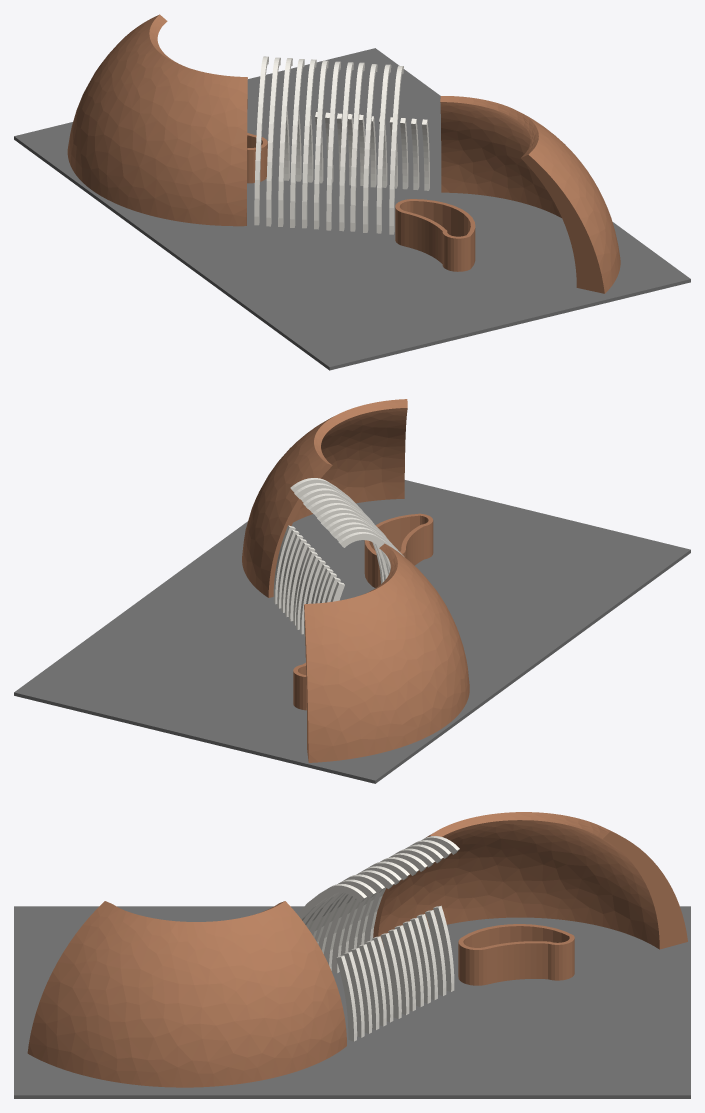
File: PabellonFosil-v1.glb
The picture shows the model from 3 angles, top to bottom: view 1: azimuth 30°, elevation 25°; view 2: azimuth 150°, elevation 25°; view 3: azimuth 270°, elevation 25°; orthographic projection. The views are drawn at different scales.
Visible parts, largest first — view 1: Fake; view 2: Fake; view 3: Fake.
Part boxes in pixels (x1=…): Fake: x1=14, y1=14, x2=690, y2=370; Fake: x1=14, y1=399, x2=690, y2=783; Fake: x1=14, y1=812, x2=690, y2=1098.
Size of the model in its own units: 9.1 by 3.19 by 13.76.
